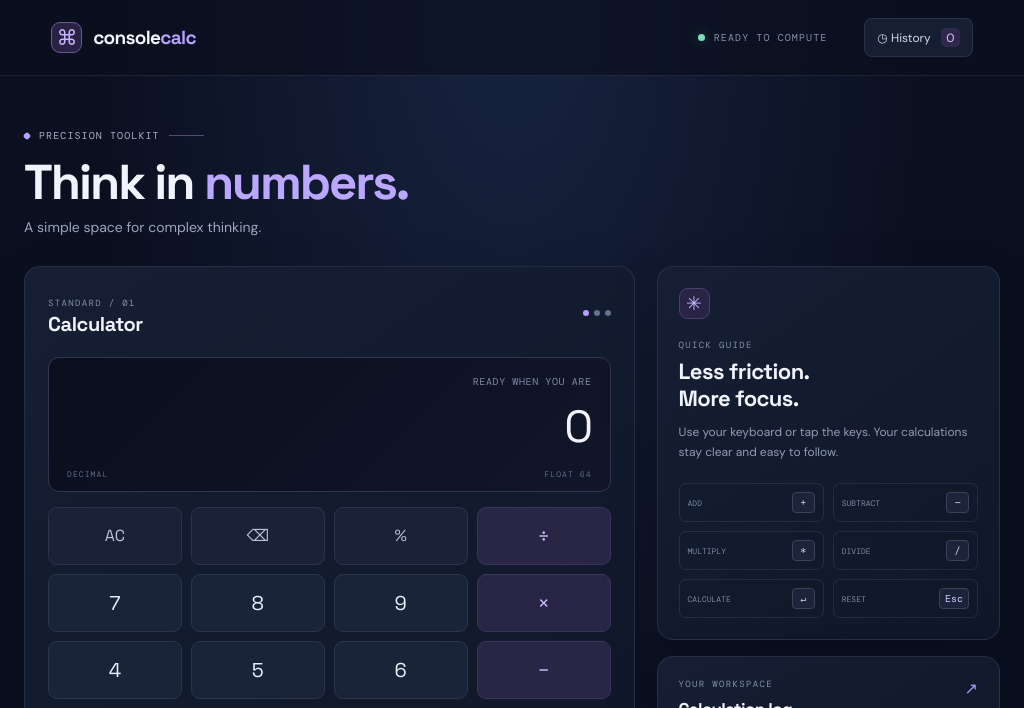
Test: Calculator UI › saves completed calculations and displays full history
The image size is (1024, 708).
Click the button "6".
click(401, 670)  # box left=334, top=641, right=468, bottom=699
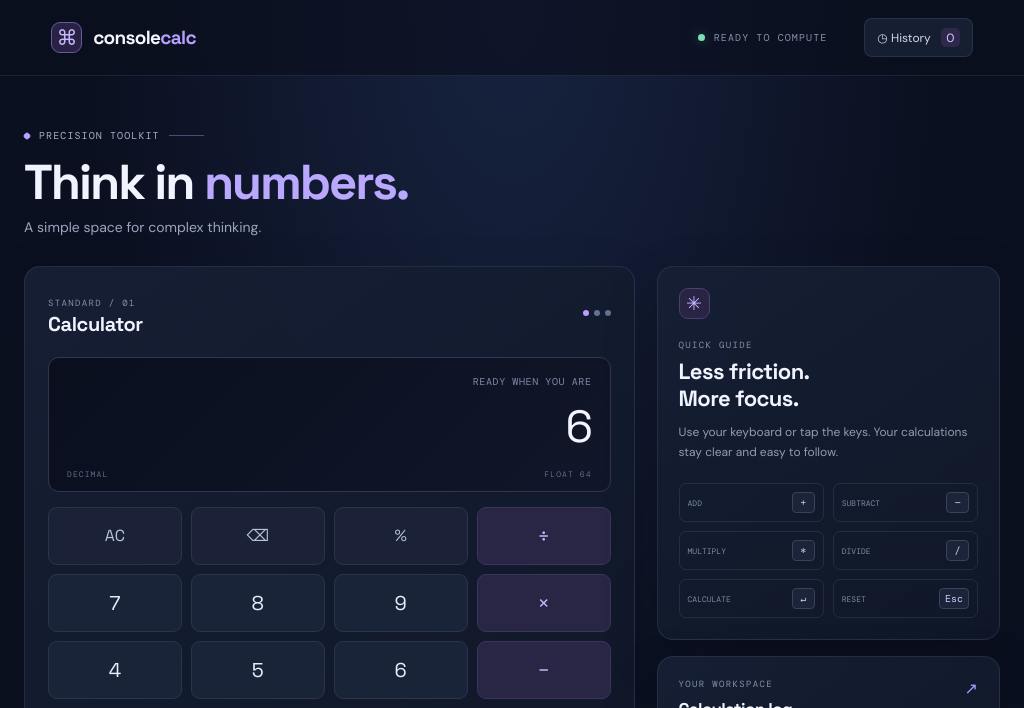
Click the button "×".
click(544, 603)  # box left=477, top=574, right=611, bottom=632
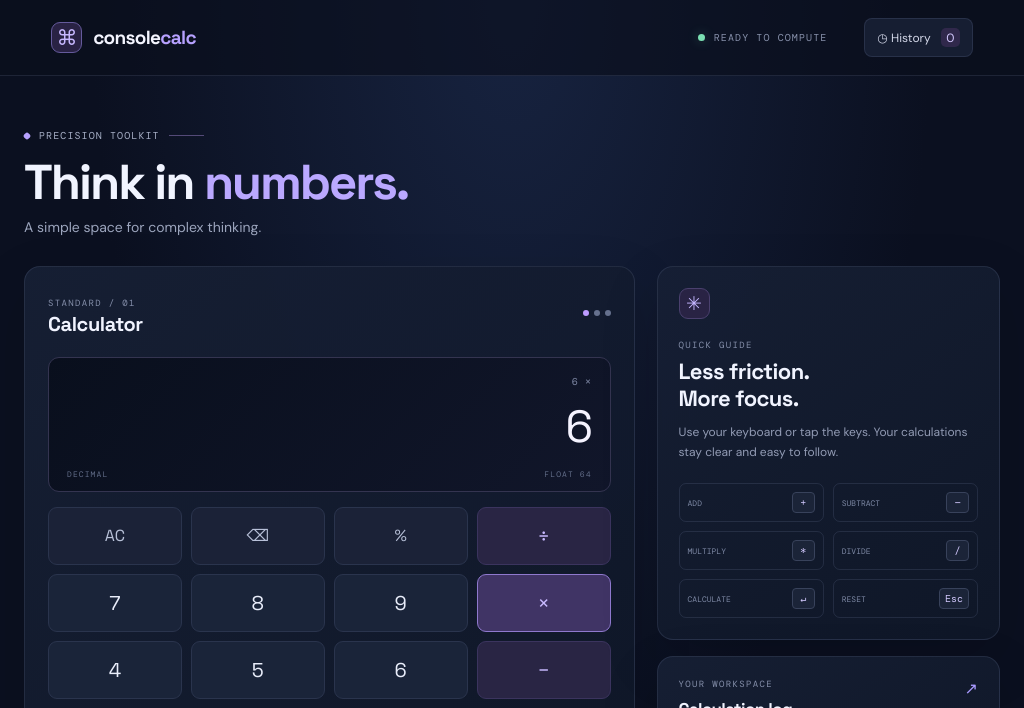
Click the button "7".
click(115, 603)  # box left=48, top=574, right=182, bottom=632
(page scrolled)
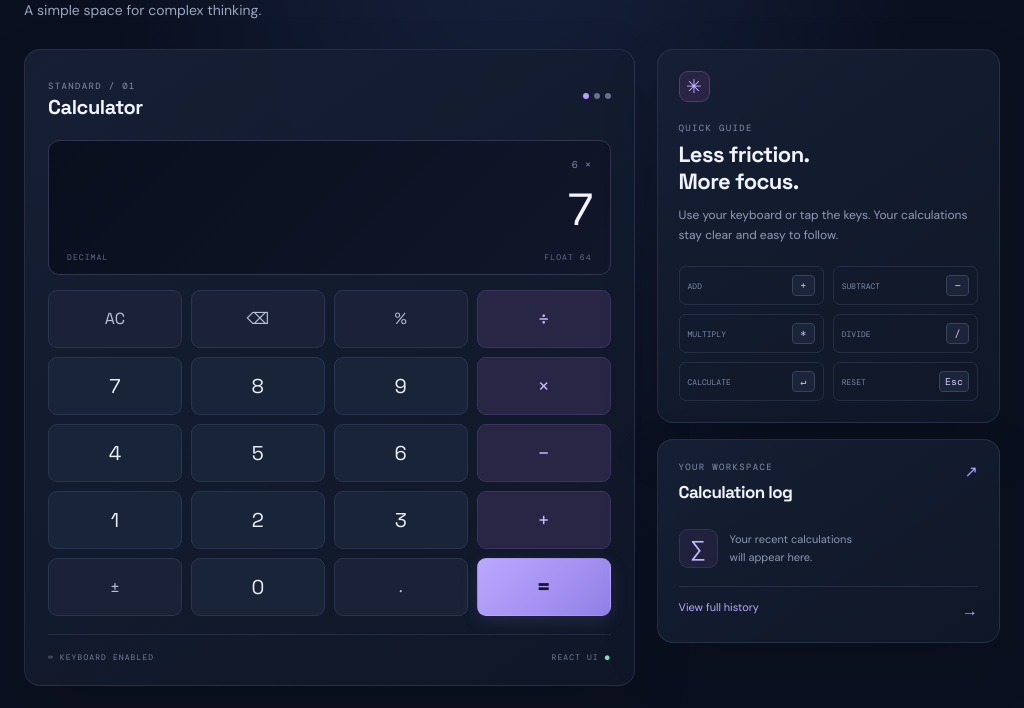
Click the button "=".
click(544, 587)  # box left=477, top=558, right=611, bottom=616
(page scrolled)
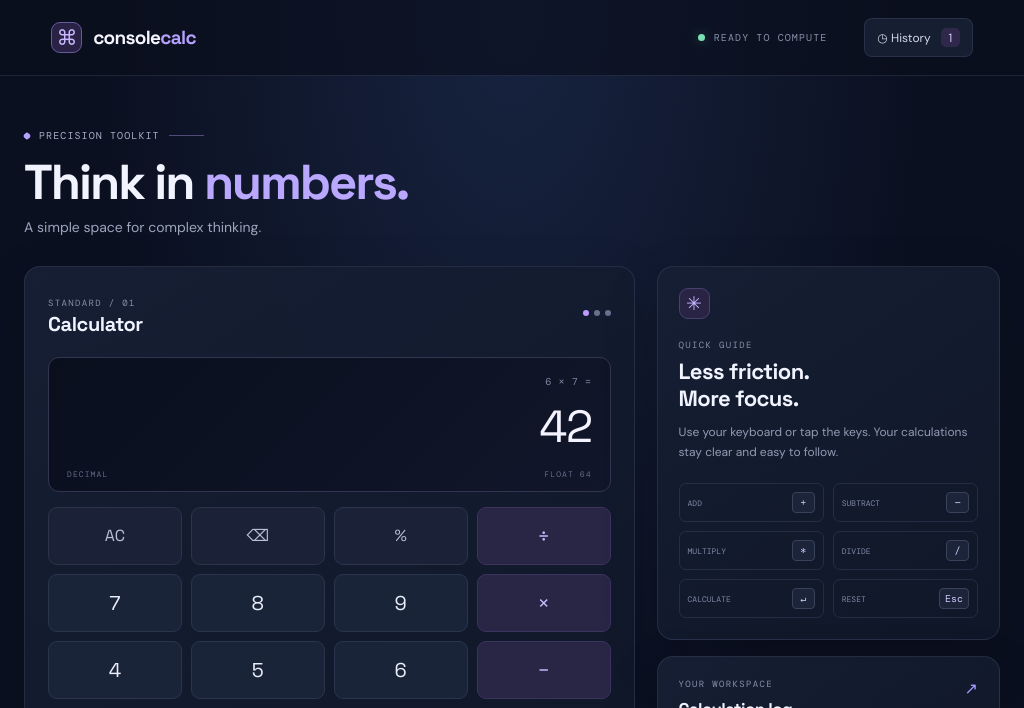
Click the button "◷ History 1".
click(919, 38)  # box left=864, top=18, right=973, bottom=57
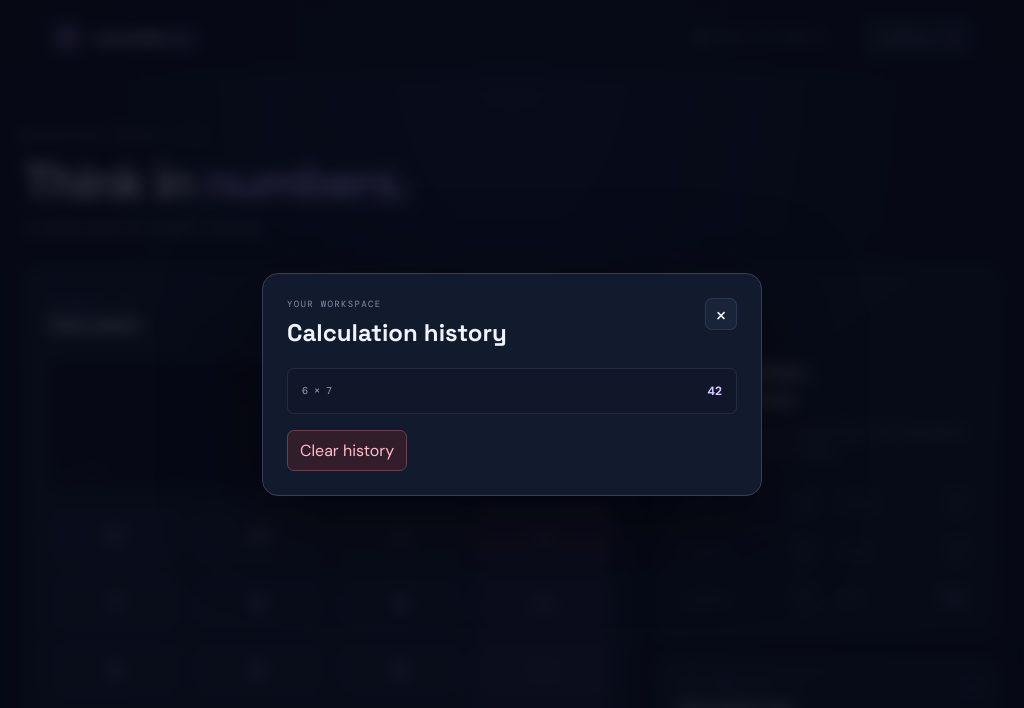
Check: the text "6 × 7" is shown, box left=302, top=384, right=332, bottom=397
Check: the text "42" is shown, box left=707, top=382, right=722, bottom=398
